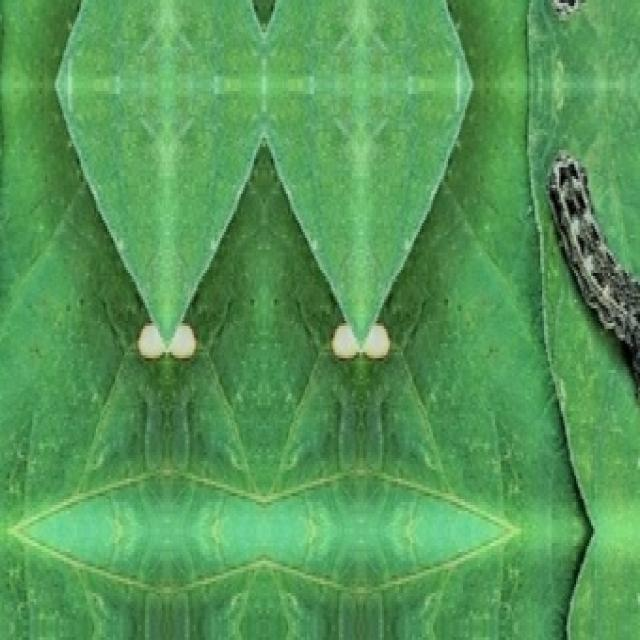armyworm: (548, 148, 640, 354)
